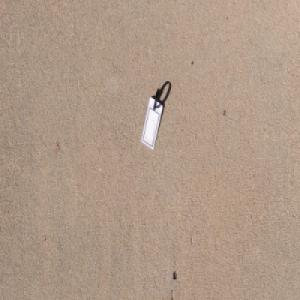LuggageTag: (140, 87, 163, 151)
